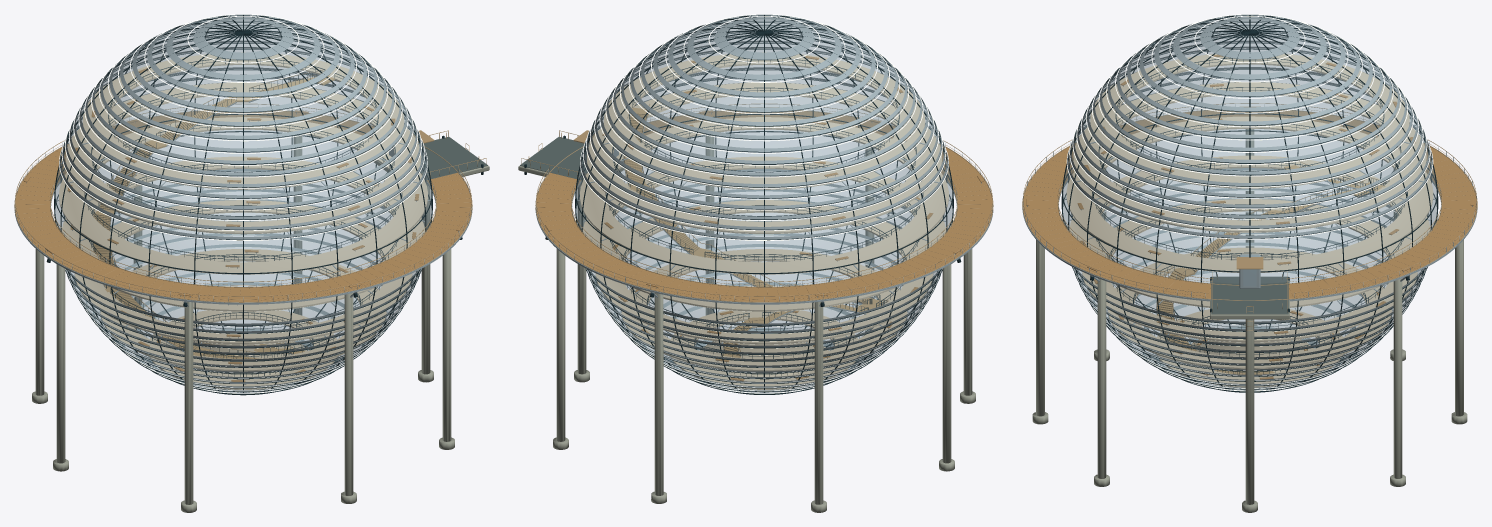
The model's file is observatory-low.glb.
The picture shows the model from 3 angles, left to right: view 1: azimuth 30°, elevation 25°; view 2: azimuth 150°, elevation 25°; view 3: azimuth 270°, elevation 25°; orthographic projection.
Parts seen in each view (by area): view 1: observatory / Pavilion clear glazing, observatory / Pavilion limestone interior, observatory / Pavilion silver louvers, observatory / Recessed joints, observatory / Pavilion oak furnishings, observatory / Marine concrete, observatory / Pavilion warm light, observatory / Anodised bronze, observatory / Pavilion stair treads, observatory / Deck grating; view 2: observatory / Pavilion clear glazing, observatory / Pavilion limestone interior, observatory / Pavilion silver louvers, observatory / Recessed joints, observatory / Pavilion oak furnishings, observatory / Marine concrete, observatory / Pavilion warm light, observatory / Anodised bronze, observatory / Pavilion stair treads, observatory / Deck grating; view 3: observatory / Pavilion clear glazing, observatory / Pavilion limestone interior, observatory / Pavilion silver louvers, observatory / Recessed joints, observatory / Pavilion oak furnishings, observatory / Pavilion warm light, observatory / Marine concrete, observatory / Anodised bronze, observatory / Deck grating, observatory / Pavilion stair treads.
Part boxes in pixels (x1=…): observatory / Pavilion clear glazing: x1=55, y1=15, x2=431, y2=392; observatory / Pavilion limestone interior: x1=59, y1=52, x2=427, y2=389; observatory / Pavilion silver louvers: x1=14, y1=14, x2=472, y2=392; observatory / Recessed joints: x1=46, y1=15, x2=483, y2=395; observatory / Pavilion oak furnishings: x1=15, y1=68, x2=471, y2=381; observatory / Marine concrete: x1=32, y1=134, x2=489, y2=512; observatory / Pavilion warm light: x1=48, y1=14, x2=460, y2=393; observatory / Anodised bronze: x1=14, y1=69, x2=486, y2=358; observatory / Pavilion stair treads: x1=92, y1=75, x2=335, y2=358; observatory / Deck grating: x1=420, y1=137, x2=487, y2=180; observatory / Pavilion clear glazing: x1=576, y1=15, x2=952, y2=392; observatory / Pavilion limestone interior: x1=580, y1=52, x2=948, y2=389; observatory / Pavilion silver louvers: x1=535, y1=14, x2=993, y2=392; observatory / Recessed joints: x1=524, y1=15, x2=961, y2=394; observatory / Pavilion oak furnishings: x1=536, y1=56, x2=992, y2=381; observatory / Marine concrete: x1=518, y1=134, x2=975, y2=512; observatory / Pavilion warm light: x1=547, y1=14, x2=959, y2=393; observatory / Anodised bronze: x1=521, y1=103, x2=993, y2=356; observatory / Pavilion stair treads: x1=623, y1=107, x2=882, y2=357; observatory / Deck grating: x1=520, y1=137, x2=587, y2=180; observatory / Pavilion clear glazing: x1=1063, y1=15, x2=1436, y2=389; observatory / Pavilion limestone interior: x1=1066, y1=54, x2=1433, y2=387; observatory / Pavilion silver louvers: x1=1022, y1=14, x2=1477, y2=390; observatory / Recessed joints: x1=1061, y1=15, x2=1438, y2=392; observatory / Pavilion oak furnishings: x1=1023, y1=54, x2=1476, y2=379; observatory / Pavilion warm light: x1=1066, y1=14, x2=1433, y2=391; observatory / Marine concrete: x1=1032, y1=129, x2=1467, y2=512; observatory / Anodised bronze: x1=1022, y1=103, x2=1477, y2=353; observatory / Deck grating: x1=1211, y1=276, x2=1288, y2=314; observatory / Pavilion stair treads: x1=1156, y1=165, x2=1385, y2=374.
Size of the model in its own units: 90.97 by 80.15 by 85.
